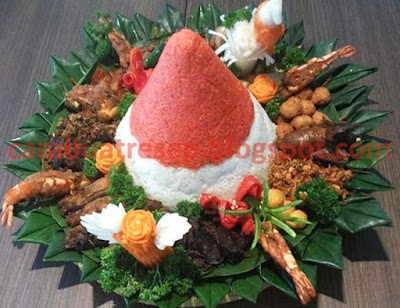nasi_tumpeng: (15, 9, 360, 298)
